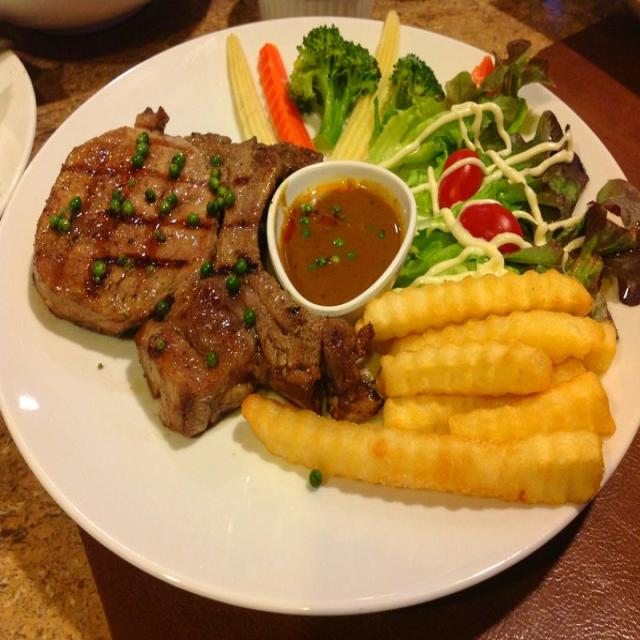Carbohydrate: (249, 269, 614, 505)
Protein: (28, 124, 384, 441)
Steak: (0, 0, 640, 614)
Vegetable: (226, 10, 640, 273)
